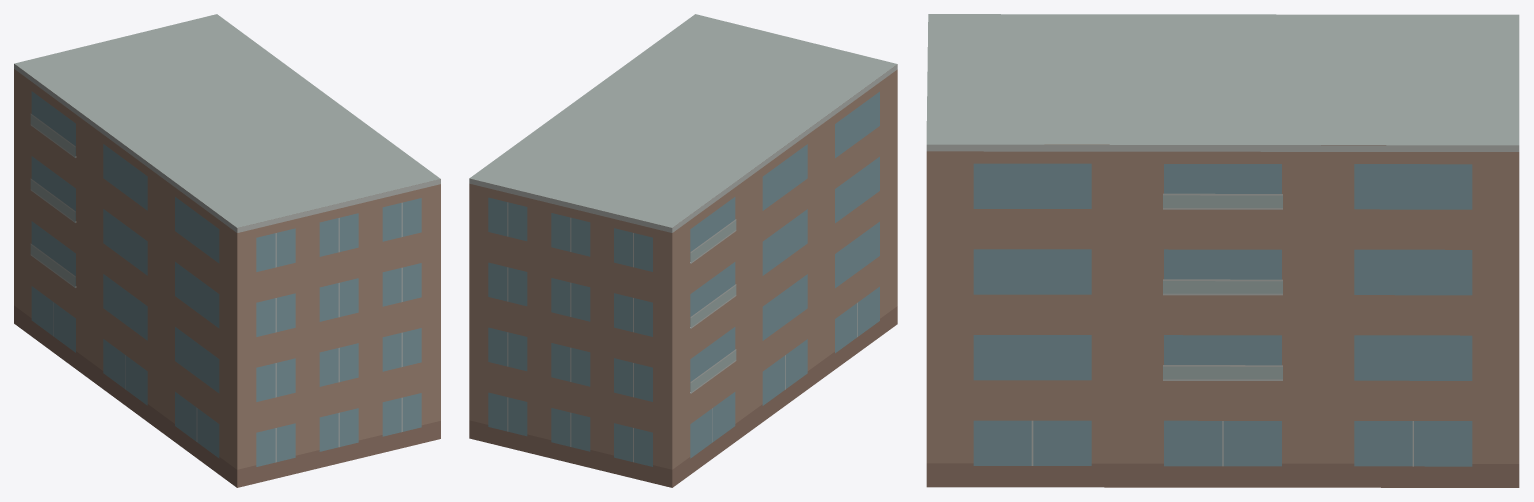
Rendered from survey-upis-32994865.glb.
3 renders of one model, left to right at view 1: azimuth 30°, elevation 25°; view 2: azimuth 150°, elevation 25°; view 3: azimuth 270°, elevation 25°, orthographic. The views are drawn at different scales.
Parts seen in each view (by area): view 1: survey-upis-32994865.tmp; view 2: survey-upis-32994865.tmp; view 3: survey-upis-32994865.tmp.
Boxes of the visible parts, <box> form: survey-upis-32994865.tmp: <box>14,14,440,487</box>; survey-upis-32994865.tmp: <box>469,14,897,487</box>; survey-upis-32994865.tmp: <box>926,14,1519,487</box>.
Size of the model in its own units: 10.05 by 12.2 by 19.15.
